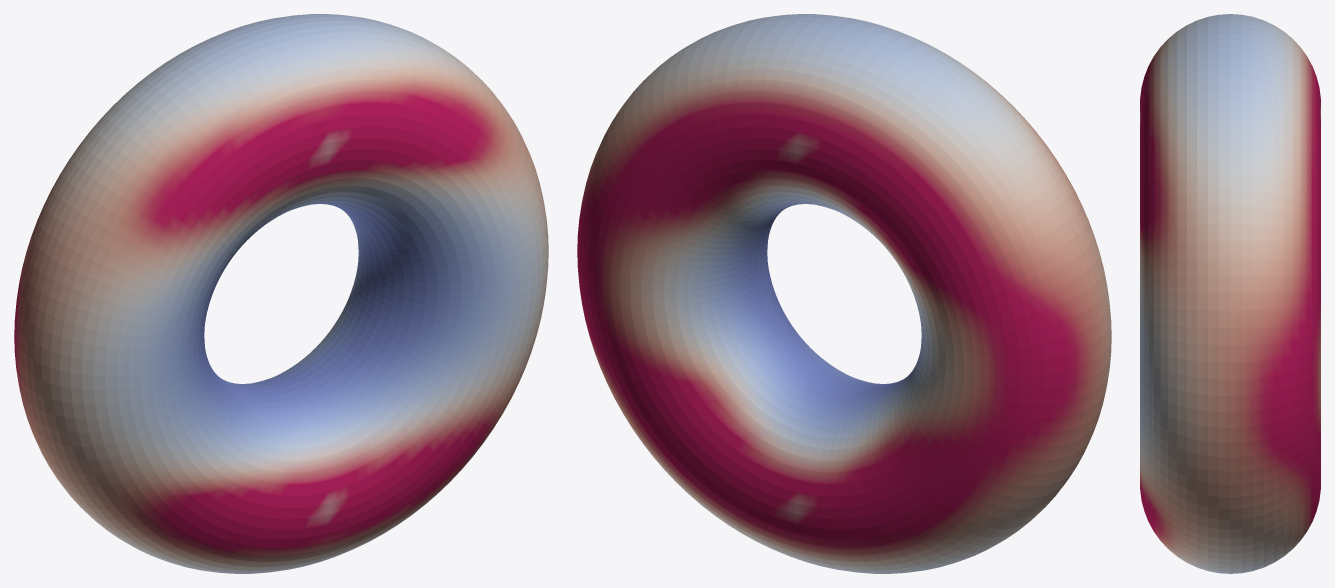
3 views of the same model, side by side, from view 1: azimuth 30°, elevation 25°; view 2: azimuth 150°, elevation 25°; view 3: azimuth 270°, elevation 25° (orthographic). The views are drawn at different scales.
Parts seen in each view (by area): view 1: world; view 2: world; view 3: world.
Part boxes in pixels (left/top/right/bottom): world: left=14, top=14, right=548, bottom=573; world: left=577, top=14, right=1111, bottom=573; world: left=1140, top=14, right=1320, bottom=573.
Bounding box in the file's own units: 22.67 × 22.67 × 7.32.
